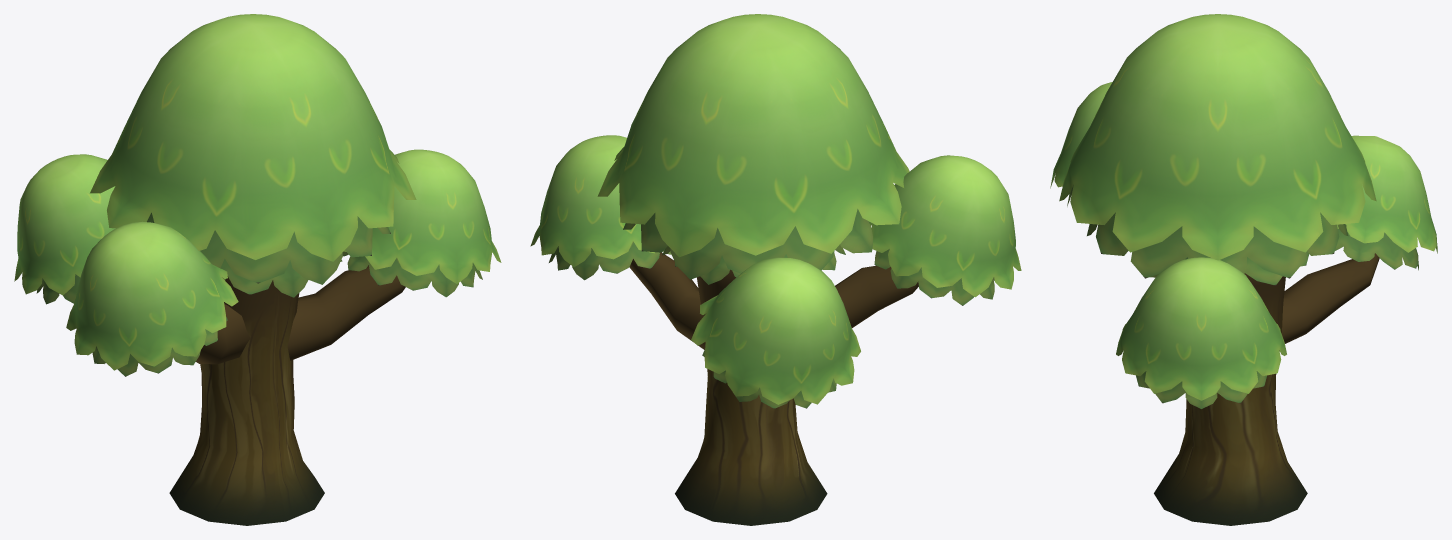
The model's file is tree.glb.
3 renders of one model, left to right at view 1: azimuth 30°, elevation 25°; view 2: azimuth 150°, elevation 25°; view 3: azimuth 270°, elevation 25°, orthographic.
Parts seen in each view (by area): view 1: Cylinder.005, Tree base, Cylinder.007, Cylinder.001, Cylinder.009, Cylinder.004, Cylinder, Cylinder.002, Cylinder.006; view 2: Cylinder.005, Tree base, Cylinder.009, Cylinder.007, Cylinder.001, Cylinder.004, Cylinder, Cylinder.006, Cylinder.008, Cylinder.002; view 3: Cylinder.005, Tree base, Cylinder.001, Cylinder.009, Cylinder.004, Cylinder.007, Cylinder.008, Cylinder, Cylinder.002.
Part boxes in pixels (bbox=[...]): Cylinder.005: bbox=[90, 14, 416, 261]; Tree base: bbox=[169, 265, 405, 525]; Cylinder.007: bbox=[66, 221, 238, 370]; Cylinder.001: bbox=[343, 149, 501, 283]; Cylinder.009: bbox=[14, 154, 115, 295]; Cylinder.004: bbox=[147, 212, 390, 284]; Cylinder: bbox=[342, 251, 482, 297]; Cylinder.002: bbox=[220, 259, 342, 297]; Cylinder.006: bbox=[92, 316, 227, 376]; Cylinder.005: bbox=[597, 14, 909, 257]; Tree base: bbox=[629, 252, 918, 525]; Cylinder.009: bbox=[691, 257, 860, 404]; Cylinder.007: bbox=[868, 155, 1021, 297]; Cylinder.001: bbox=[530, 135, 654, 267]; Cylinder.004: bbox=[623, 209, 872, 279]; Cylinder: bbox=[549, 241, 671, 280]; Cylinder.006: bbox=[874, 249, 994, 305]; Cylinder.008: bbox=[702, 349, 836, 408]; Cylinder.002: bbox=[662, 244, 845, 284]; Cylinder.005: bbox=[1059, 14, 1376, 260]; Tree base: bbox=[1154, 253, 1379, 525]; Cylinder.001: bbox=[1116, 257, 1286, 400]; Cylinder.009: bbox=[1337, 135, 1437, 253]; Cylinder.004: bbox=[1087, 212, 1348, 278]; Cylinder.007: bbox=[1050, 82, 1112, 188]; Cylinder.008: bbox=[1335, 225, 1418, 270]; Cylinder: bbox=[1136, 371, 1266, 408]; Cylinder.002: bbox=[1150, 251, 1309, 285].
Size of the model in its own units: 926 by 936 by 703.
Materials: 1 (1 with a texture image).
